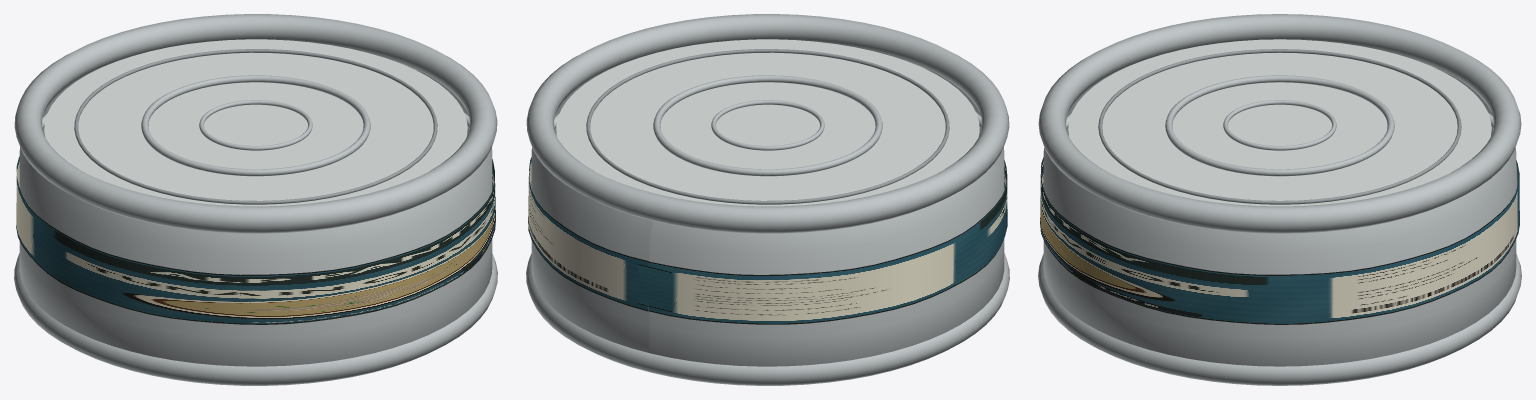
The model's file is alp_pantry_tuna_in_olive_oil_CLOSED.glb.
The picture shows the model from 3 angles, left to right: view 1: azimuth 30°, elevation 25°; view 2: azimuth 150°, elevation 25°; view 3: azimuth 270°, elevation 25°; orthographic projection.
Visible parts, largest first — view 1: LID | recessed closed disc, TIN | stamped steel structural body, DOUBLE SEAM | top folded edge, PRINT | original 2K UV paper wrap, DOUBLE SEAM | bottom folded edge, CLASSIC LID | concentric pressing, LID | circular etched scoring, CLASSIC LID | inset press marking; view 2: LID | recessed closed disc, TIN | stamped steel structural body, DOUBLE SEAM | top folded edge, PRINT | original 2K UV paper wrap, DOUBLE SEAM | bottom folded edge, CLASSIC LID | concentric pressing, LID | circular etched scoring, PAPER | overlapping rear label seam, CLASSIC LID | inset press marking; view 3: LID | recessed closed disc, TIN | stamped steel structural body, DOUBLE SEAM | top folded edge, PRINT | original 2K UV paper wrap, DOUBLE SEAM | bottom folded edge, CLASSIC LID | concentric pressing, LID | circular etched scoring, CLASSIC LID | inset press marking.
Boxes of the visible parts, x1,y1,x2,y2 form: LID | recessed closed disc: (44, 39, 467, 206); TIN | stamped steel structural body: (19, 66, 492, 366); DOUBLE SEAM | top folded edge: (14, 14, 497, 233); PRINT | original 2K UV paper wrap: (16, 156, 495, 324); DOUBLE SEAM | bottom folded edge: (14, 253, 497, 385); CLASSIC LID | concentric pressing: (141, 75, 370, 176); LID | circular etched scoring: (74, 49, 437, 204); CLASSIC LID | inset press marking: (199, 100, 312, 150); LID | recessed closed disc: (556, 39, 979, 206); TIN | stamped steel structural body: (531, 66, 1004, 366); DOUBLE SEAM | top folded edge: (526, 14, 1009, 233); PRINT | original 2K UV paper wrap: (528, 157, 1007, 324); DOUBLE SEAM | bottom folded edge: (526, 253, 1009, 385); CLASSIC LID | concentric pressing: (653, 75, 882, 176); LID | circular etched scoring: (586, 49, 949, 204); PAPER | overlapping rear label seam: (638, 264, 671, 311); CLASSIC LID | inset press marking: (711, 100, 824, 150); LID | recessed closed disc: (1068, 39, 1491, 206); TIN | stamped steel structural body: (1043, 67, 1516, 366); DOUBLE SEAM | top folded edge: (1038, 14, 1521, 233); PRINT | original 2K UV paper wrap: (1040, 157, 1519, 324); DOUBLE SEAM | bottom folded edge: (1038, 254, 1521, 385); CLASSIC LID | concentric pressing: (1165, 75, 1394, 176); LID | circular etched scoring: (1098, 49, 1461, 204); CLASSIC LID | inset press marking: (1223, 100, 1336, 150).
Bounding box in the file's own units: 0.088 × 0.0367 × 0.088.
Materials: 5 (1 with a texture image).
